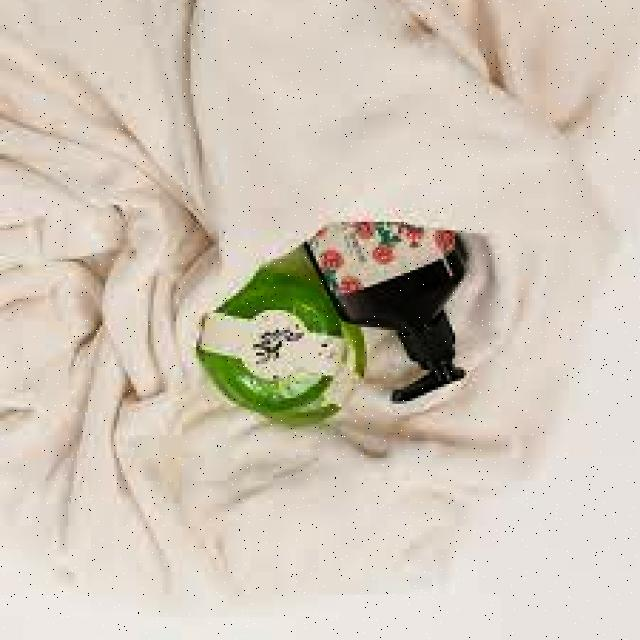liquid soap: (313, 199, 483, 427)
